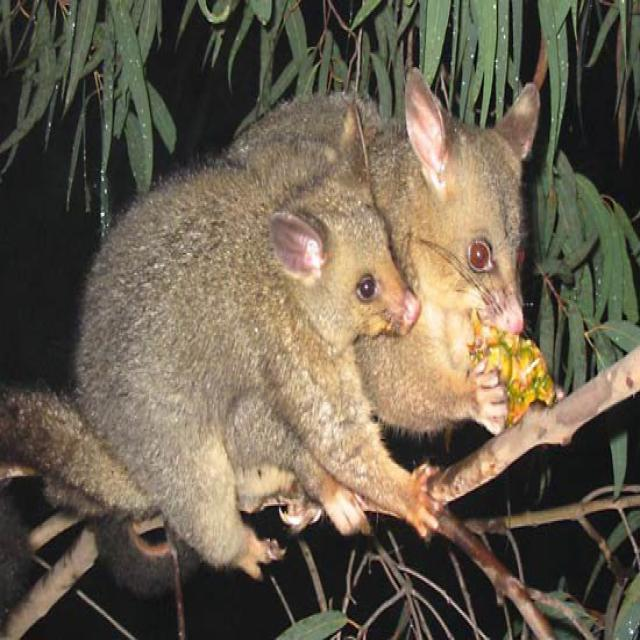Possum: (62, 129, 442, 557), (246, 66, 563, 431)
